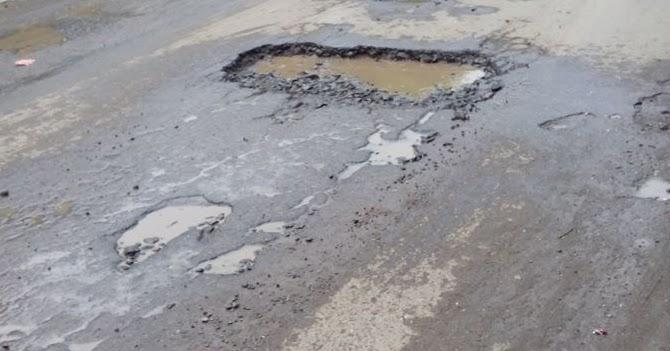Pothole: (169, 19, 508, 127), (93, 174, 316, 285), (615, 77, 670, 224), (527, 97, 599, 139)
